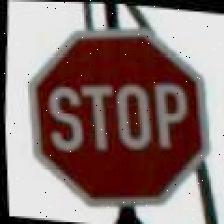Stop: (15, 16, 218, 216)
